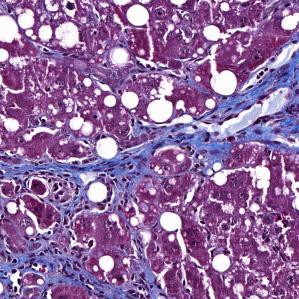fibrosis: (201, 63, 299, 166), (9, 150, 140, 211), (0, 242, 104, 299), (86, 252, 167, 299)
